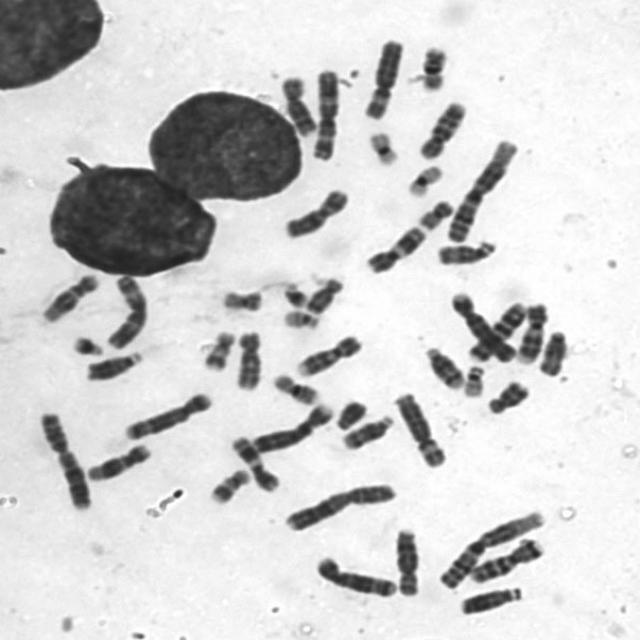A1: (431, 503, 551, 590), (442, 132, 523, 244)
A2: (278, 475, 400, 533), (33, 404, 94, 512)
A3: (100, 269, 152, 349), (304, 62, 342, 161)
B4: (445, 285, 518, 364), (245, 396, 337, 454)
B5: (118, 385, 215, 442), (309, 550, 400, 598)
C10: (412, 94, 471, 161), (230, 323, 266, 393)
C11: (360, 219, 430, 275), (224, 430, 282, 494)
C12: (35, 266, 102, 324), (81, 437, 154, 483)
C6: (388, 385, 450, 469), (358, 32, 408, 121)
C7: (462, 295, 530, 363), (463, 531, 548, 585)
C8: (275, 69, 320, 138), (390, 521, 422, 597)
C9: (290, 328, 365, 378), (510, 295, 552, 365)
D13: (454, 580, 526, 617), (80, 346, 146, 384)
D14: (335, 408, 397, 451), (418, 340, 467, 391)
D15: (431, 234, 500, 266), (533, 324, 571, 377)
E16: (266, 367, 322, 406), (415, 39, 451, 92)
E17: (202, 462, 254, 505), (195, 324, 238, 373)
E18: (482, 373, 533, 416), (300, 270, 347, 316)
F19: (402, 158, 447, 198), (362, 125, 402, 167)
F20: (413, 193, 457, 230), (216, 283, 266, 313)
G21: (65, 328, 107, 357), (277, 276, 312, 310)
G22: (278, 303, 324, 331), (458, 358, 488, 398)
X: (277, 182, 353, 240)
Y: (330, 394, 370, 432)
